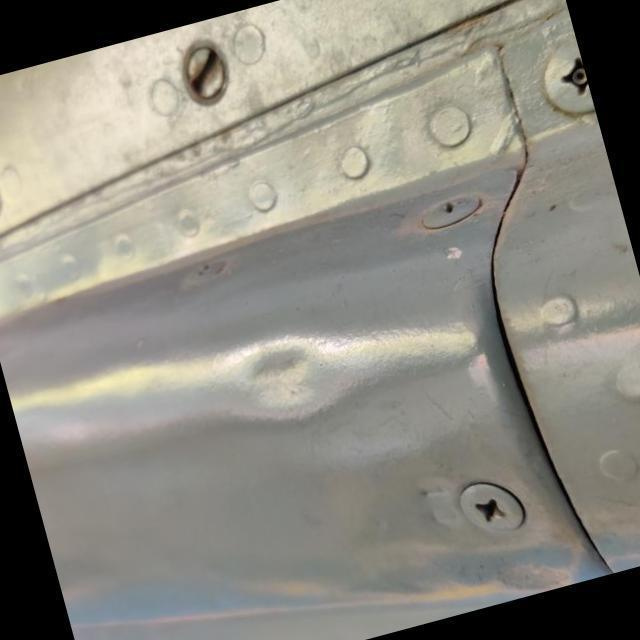dent: (216, 337, 354, 421)
